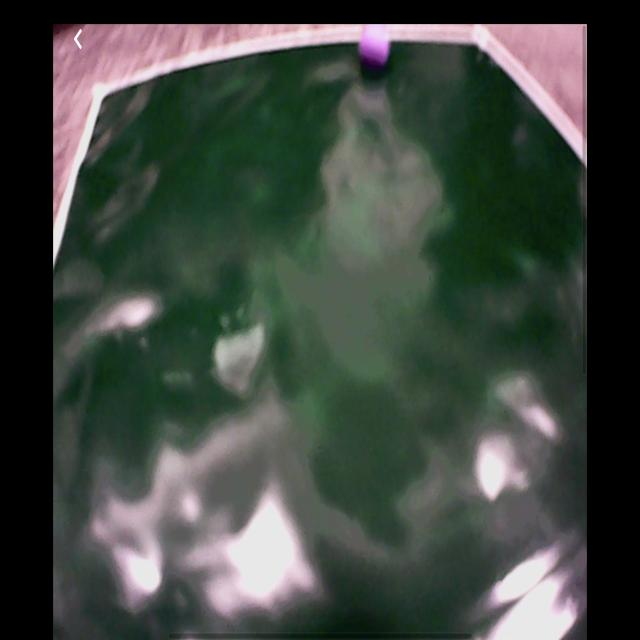ball: (358, 24, 393, 71)
